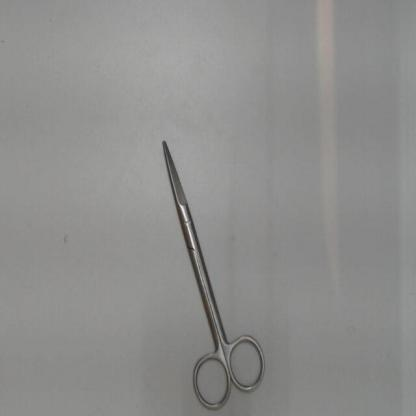Curved Mayo Scissors: (158, 130, 270, 415)
